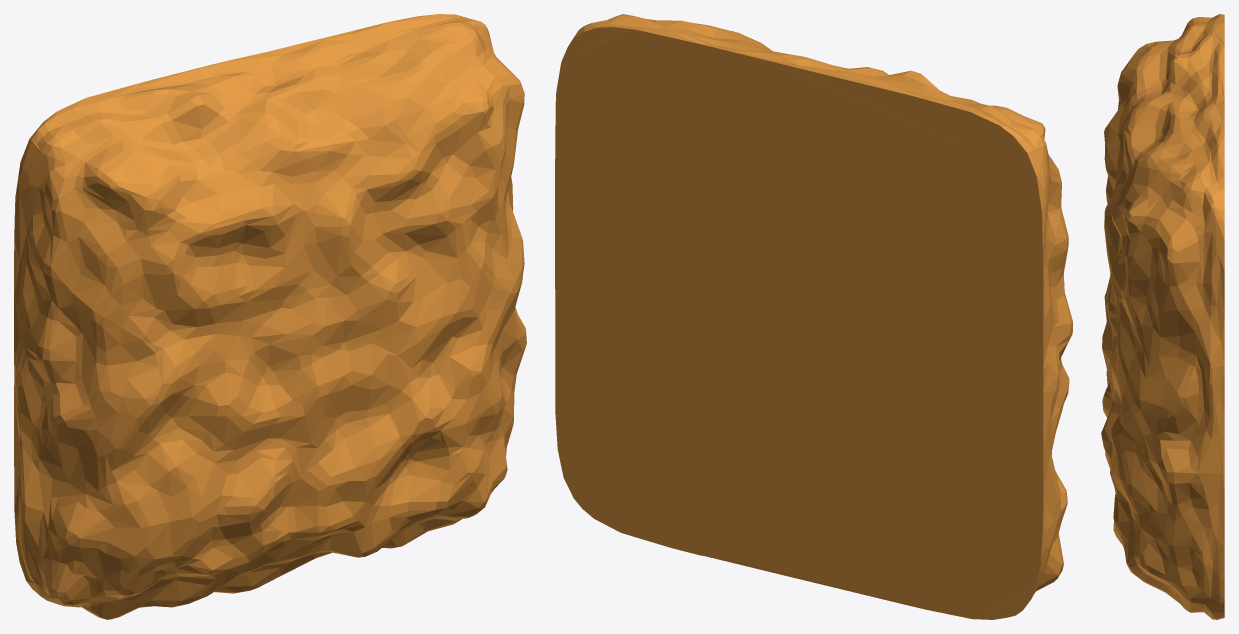
File: topping_cheese.glb
3 renders of one model, left to right at view 1: azimuth 30°, elevation 25°; view 2: azimuth 150°, elevation 25°; view 3: azimuth 270°, elevation 25°, orthographic. The views are drawn at different scales.
Parts seen in each view (by area): view 1: Cube.653; view 2: Cube.653; view 3: Cube.653.
Boxes of the visible parts, x1,y1,x2,y2 form: Cube.653: (14, 14, 526, 619); Cube.653: (555, 14, 1072, 619); Cube.653: (1101, 14, 1224, 619).
Bounding box in the file's own units: 7.84 × 7.73 × 1.91.
